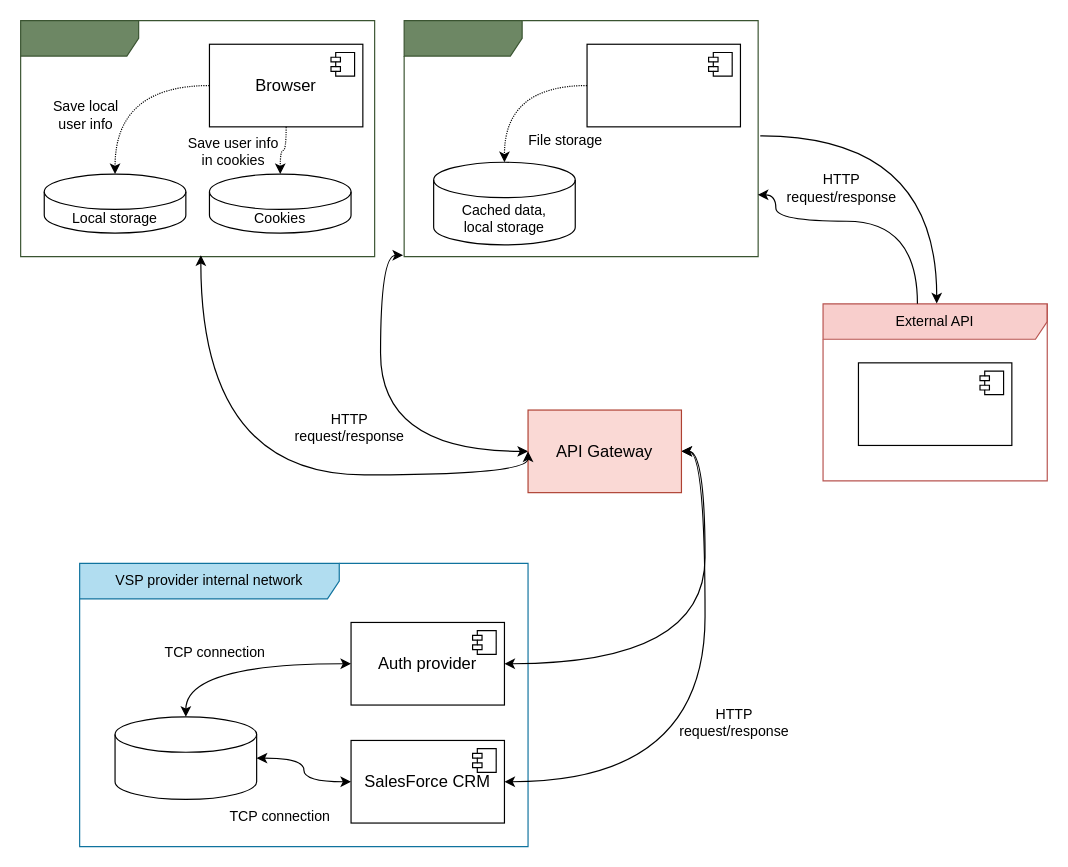
This 1068x867 diagram has some shape labels left out. Here are the shapes that lost their labels. From the top down, the box of each, then its label:
(586, 43, 740, 127): Application
(19, 19, 375, 257): Web user
(403, 19, 758, 257): Phone app
(857, 362, 1012, 445): Google Maps API
(114, 716, 257, 799): Cloud Storage
